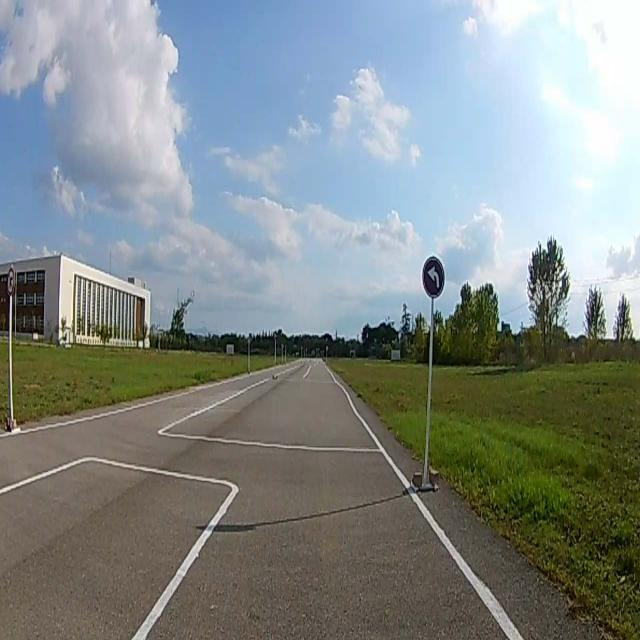sagadonulmez: (7, 268, 15, 296)
sol: (422, 258, 444, 298)
